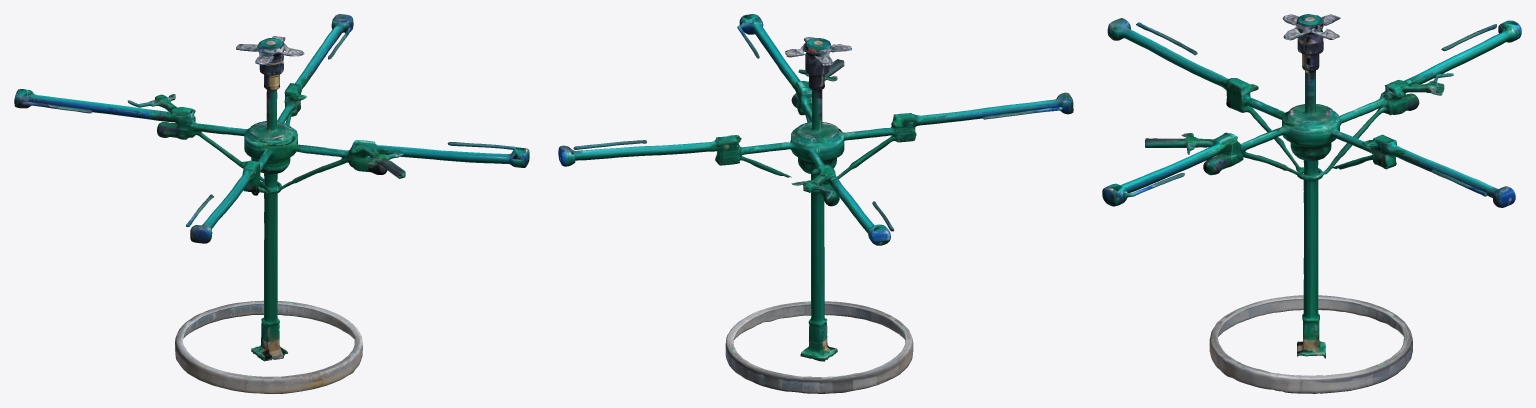
The model's file is sprinler.glb.
3 renders of one model, left to right at view 1: azimuth 30°, elevation 25°; view 2: azimuth 150°, elevation 25°; view 3: azimuth 270°, elevation 25°, orthographic. The views are drawn at different scales.
Bounding box in the file's own units: 2 × 1.77 × 2.
Materials: 1 (1 with a texture image).
